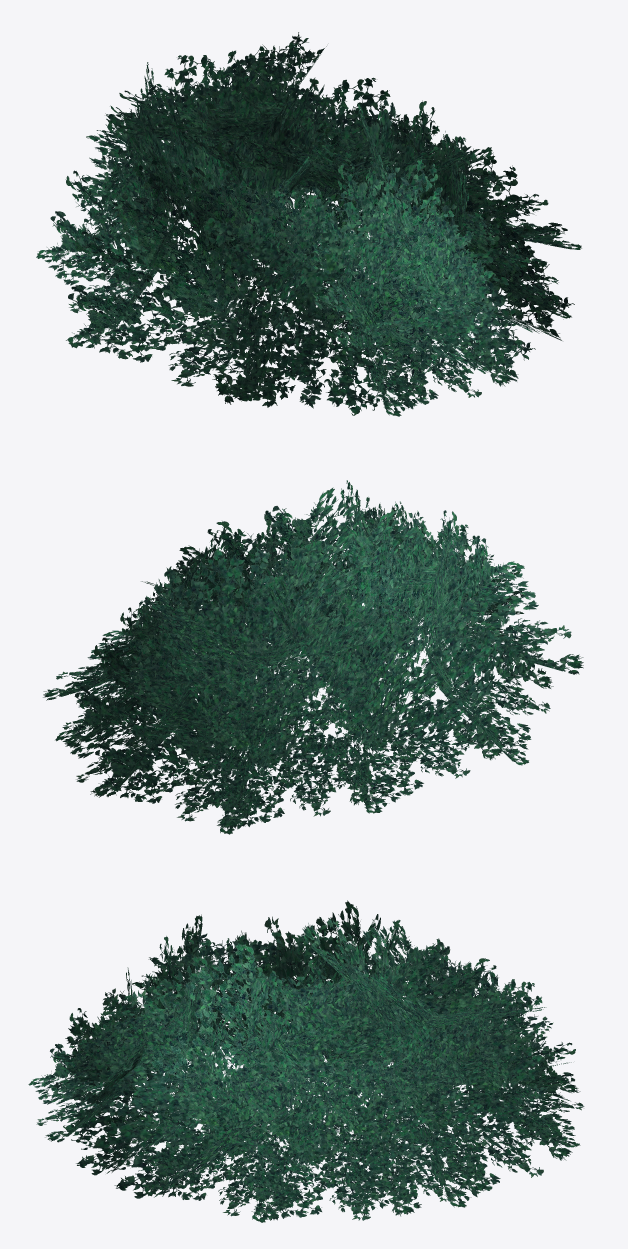
Rendered from shrb_giantlickbush_blue_l1.fbx.
3 renders of one model, top to bottom at view 1: azimuth 30°, elevation 25°; view 2: azimuth 150°, elevation 25°; view 3: azimuth 270°, elevation 25°, orthographic. The views are drawn at different scales.
Parts seen in each view (by area): view 1: mesh_node; view 2: mesh_node; view 3: mesh_node.
Part boxes in pixels (bbox=[...]): mesh_node: bbox=[36, 32, 581, 416]; mesh_node: bbox=[43, 480, 583, 834]; mesh_node: bbox=[28, 900, 584, 1222].
Size of the model in its own units: 5.81 by 2.95 by 6.6.
